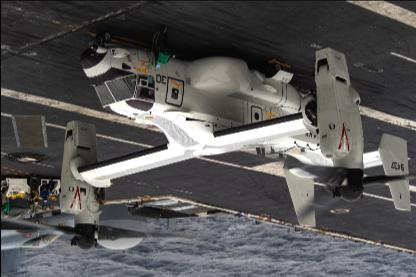F15: (1, 196, 103, 275)
Tornado: (1, 29, 415, 254)
